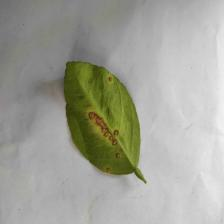canker: (77, 83, 129, 181)
